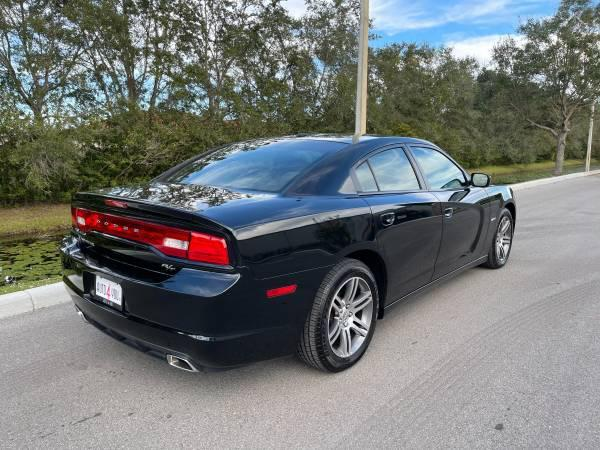Front_Fender: (479, 185, 514, 261)
Front_Right_Door: (431, 188, 488, 287)
Front_Right_Window: (406, 147, 477, 191)
Left_Taillight: (66, 195, 101, 236)
Rear_Bumper: (59, 230, 334, 373)
Rear_Fender: (220, 171, 378, 278)
Rear_Right_Door: (361, 193, 440, 315)
Rear_Right_Window: (349, 143, 423, 193)
Rear_Windshield: (151, 137, 349, 194)
Right_Taillight: (140, 207, 241, 273)
Roof: (260, 131, 480, 196)
Tailgate: (77, 180, 285, 247)
Wheel: (299, 258, 382, 369), (492, 210, 515, 266)
